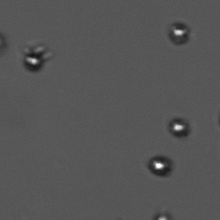Living Cell: (146, 155, 176, 175), (167, 21, 193, 44), (23, 48, 44, 74), (165, 116, 191, 137)
